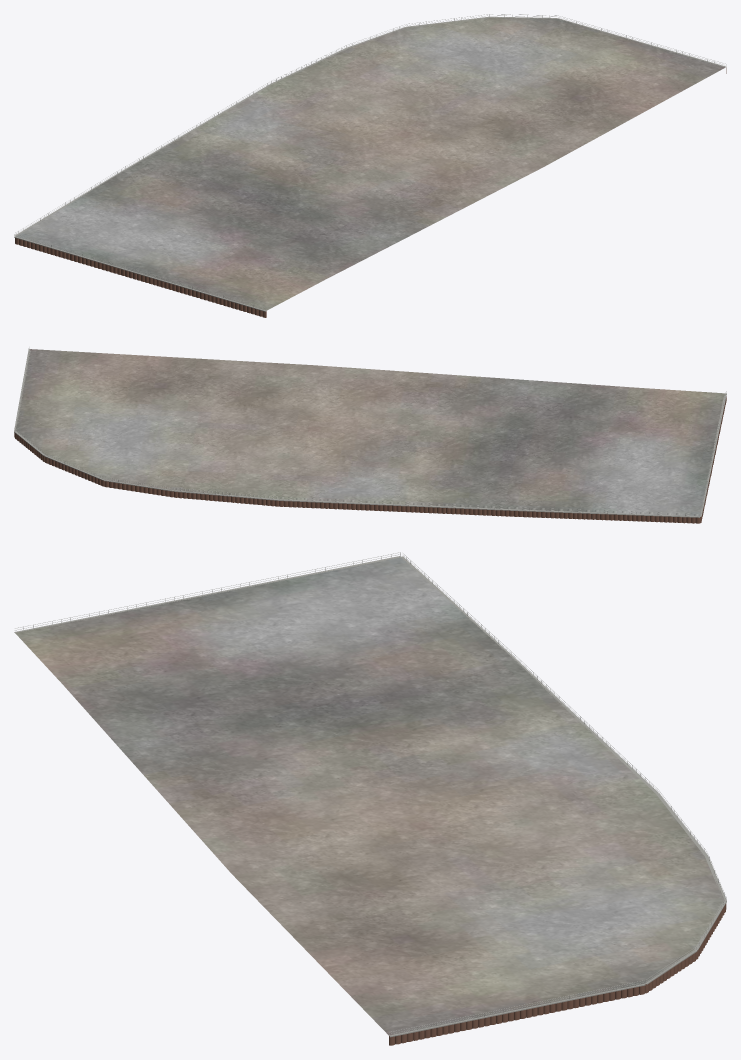
3 renders of one model, top to bottom at view 1: azimuth 30°, elevation 25°; view 2: azimuth 150°, elevation 25°; view 3: azimuth 270°, elevation 25°, orthographic. The views are drawn at different scales.
Parts seen in each view (by area): view 1: Exposed waterfront platform, Capping beam and edge walk, Weathered waterfront piles, Temporary waterside railing; view 2: Exposed waterfront platform, Weathered waterfront piles, Capping beam and edge walk, Temporary waterside railing; view 3: Exposed waterfront platform, Capping beam and edge walk, Weathered waterfront piles, Temporary waterside railing.
Part boxes in pixels (<box>): Exposed waterfront platform: <box>16,17,725,310</box>; Capping beam and edge walk: <box>14,16,726,311</box>; Weathered waterfront piles: <box>15,67,726,317</box>; Temporary waterside railing: <box>14,14,726,309</box>; Exposed waterfront platform: <box>15,349,724,516</box>; Weathered waterfront piles: <box>14,396,726,523</box>; Capping beam and edge walk: <box>14,349,726,517</box>; Temporary waterside railing: <box>14,347,726,515</box>; Exposed waterfront platform: <box>15,557,724,1035</box>; Capping beam and edge walk: <box>14,556,726,1037</box>; Weathered waterfront piles: <box>389,903,726,1045</box>; Temporary waterside railing: <box>14,552,726,1035</box>.
Size of the model in its own units: 274 by 3.63 by 172.
Materials: 4 (1 with a texture image).
